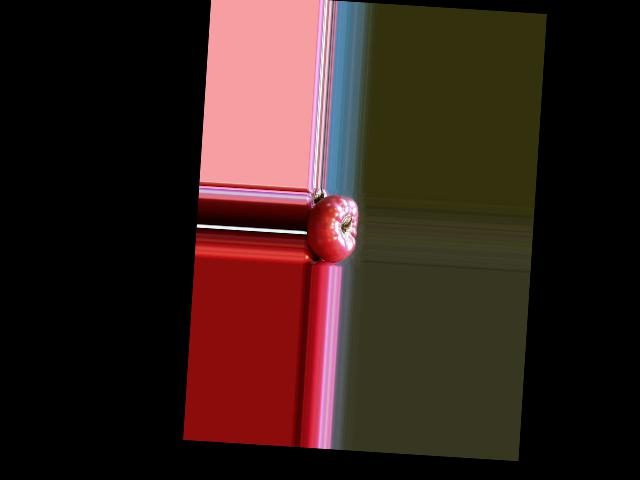tomato: (304, 193, 359, 265)
